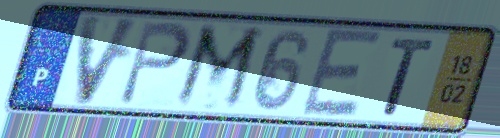6: (251, 27, 312, 115)
E: (297, 25, 387, 120)
M: (169, 21, 268, 115)
P: (115, 18, 194, 108)
T: (380, 34, 439, 119)
V: (71, 11, 146, 110)
